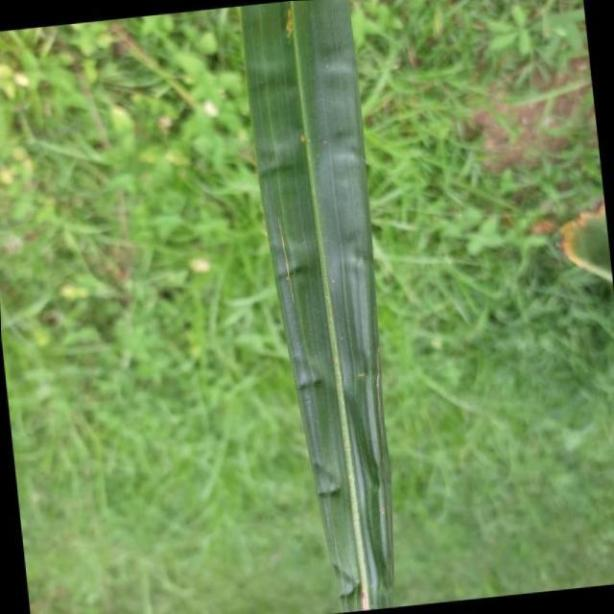Boron: (237, 7, 395, 608)
